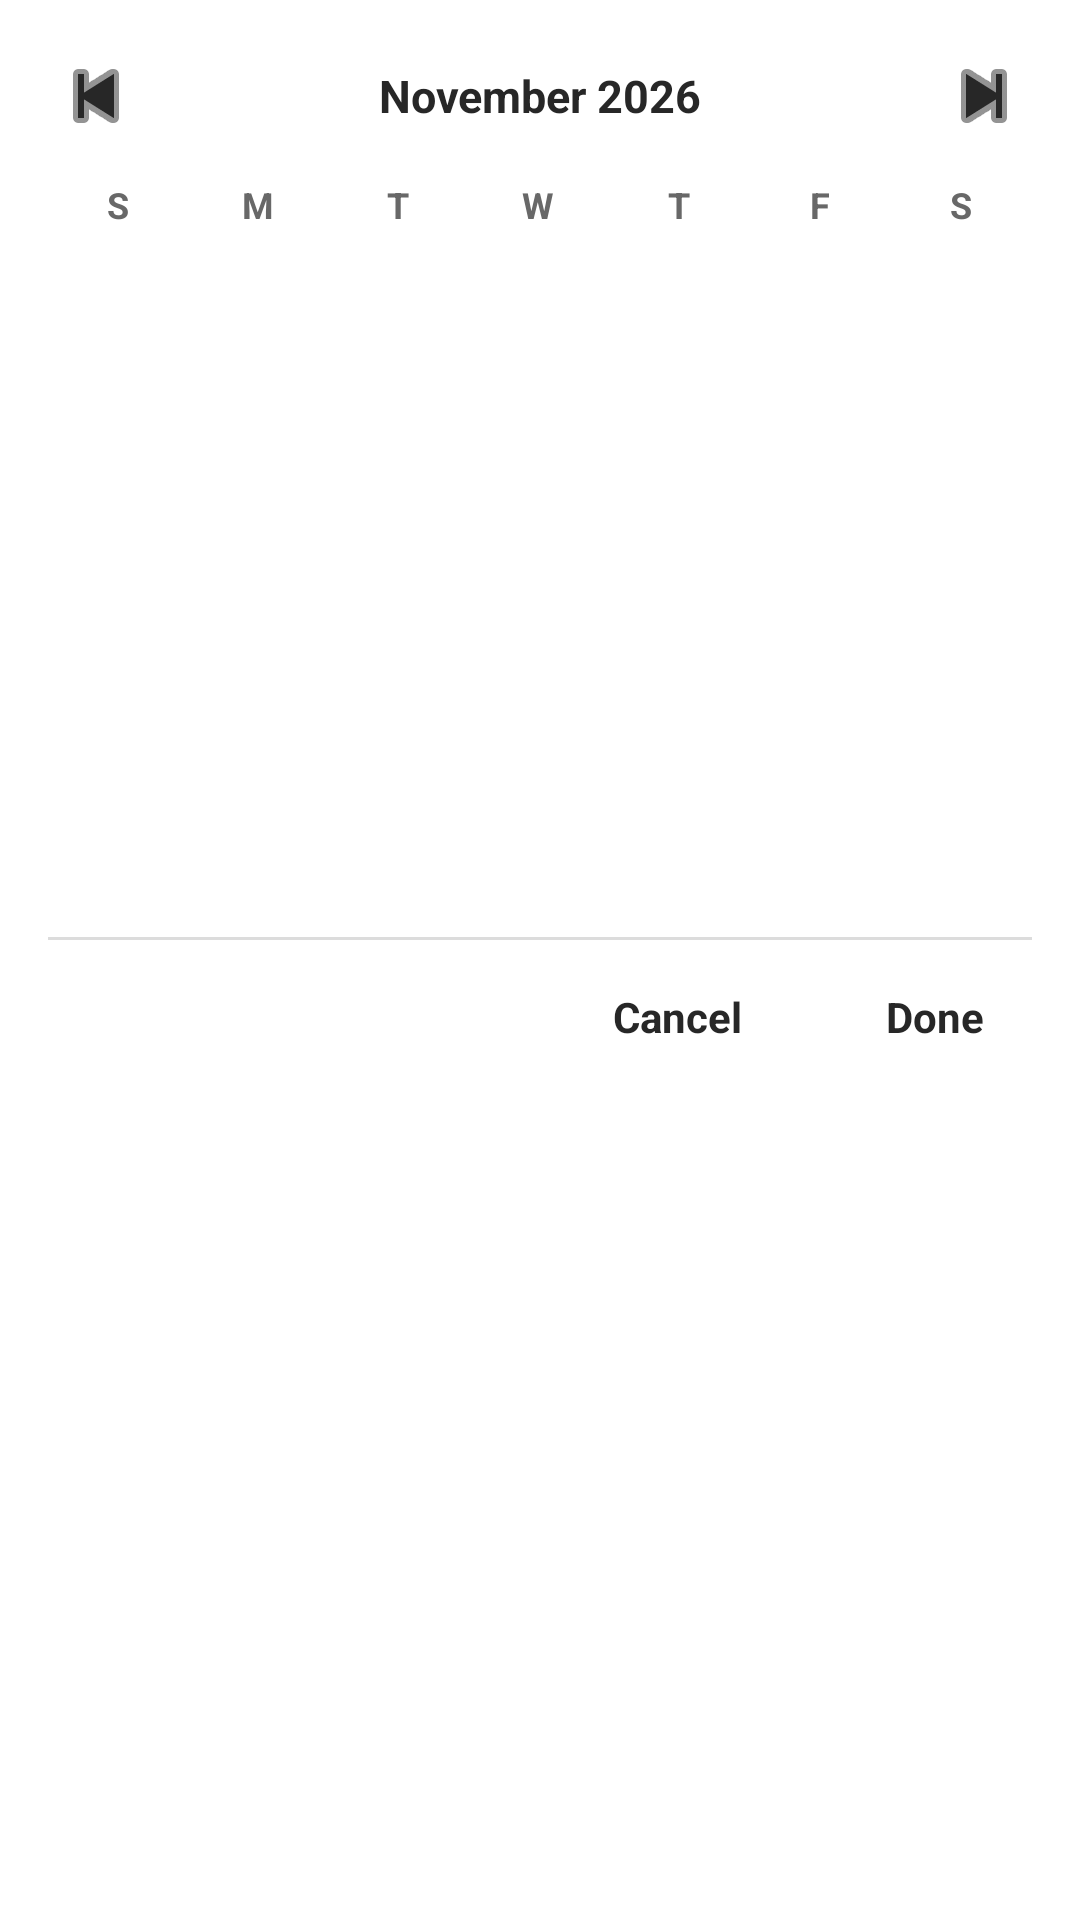

Where icons sit on this 1080px×1920px app screen, as (x1, y1, x2, y2):
Next month: (961, 69, 1007, 123)
Previous month: (73, 69, 119, 123)
